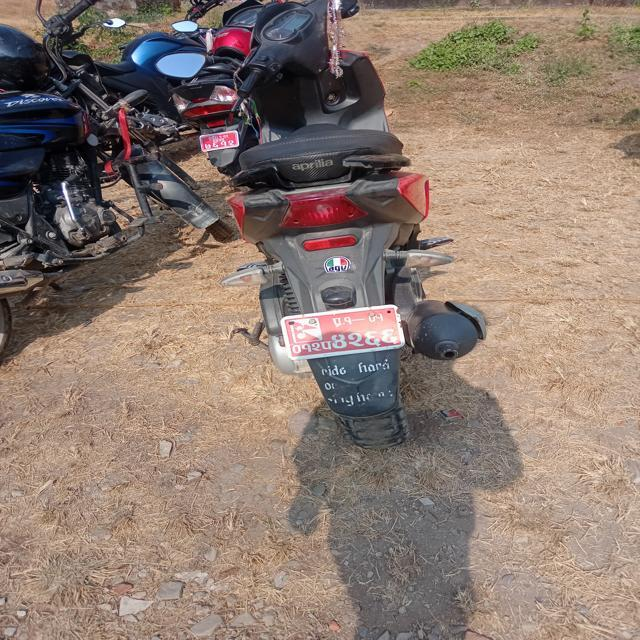license_plate: (242, 253, 464, 393)
